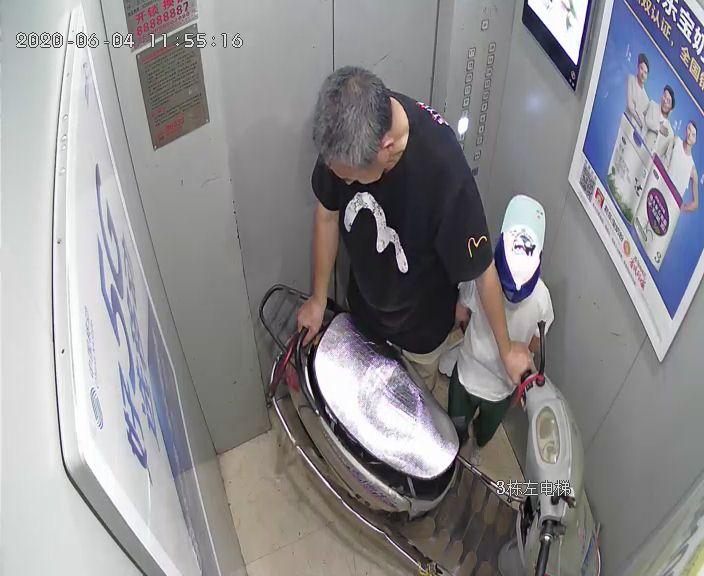Electric-bicycle: (256, 282, 600, 575)
